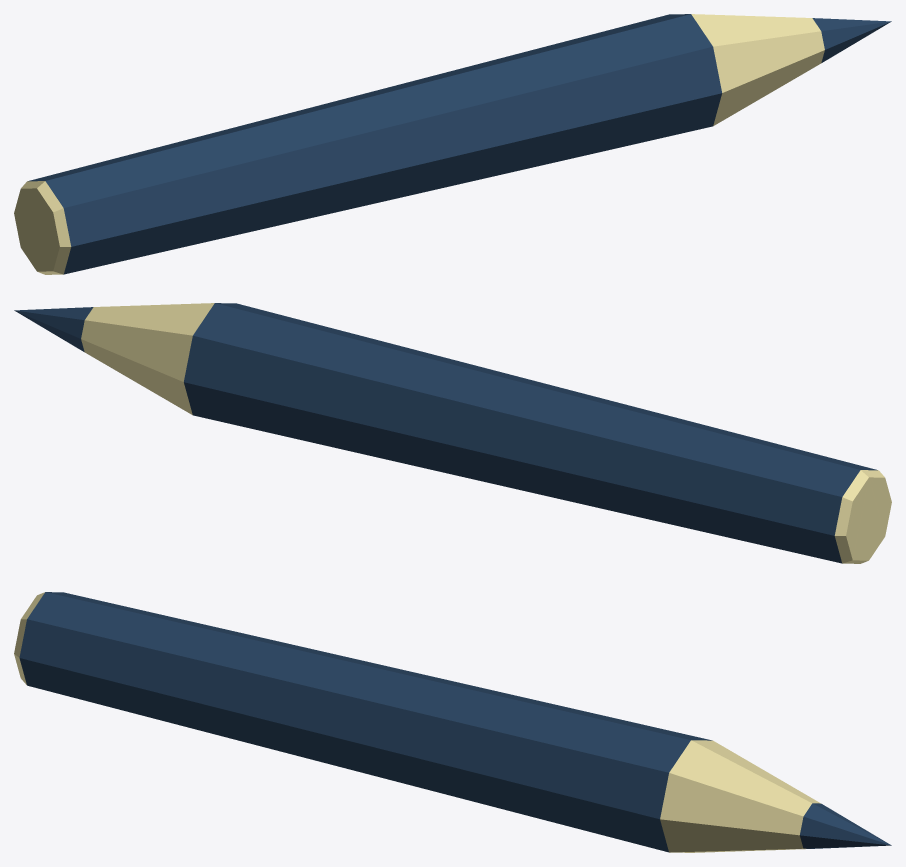
Rendered from pencil_short.fbx.
3 renders of one model, top to bottom at view 1: azimuth 30°, elevation 25°; view 2: azimuth 150°, elevation 25°; view 3: azimuth 330°, elevation 25°, orthographic.
Visible parts, largest first — view 1: pencil short.002; view 2: pencil short.002; view 3: pencil short.002.
Part boxes in pixels (<box>): pencil short.002: <box>14,14,891,274</box>; pencil short.002: <box>14,303,891,563</box>; pencil short.002: <box>14,592,891,852</box>.
Bounding box in the file's own units: 22.61 × 2.85 × 2.85.
